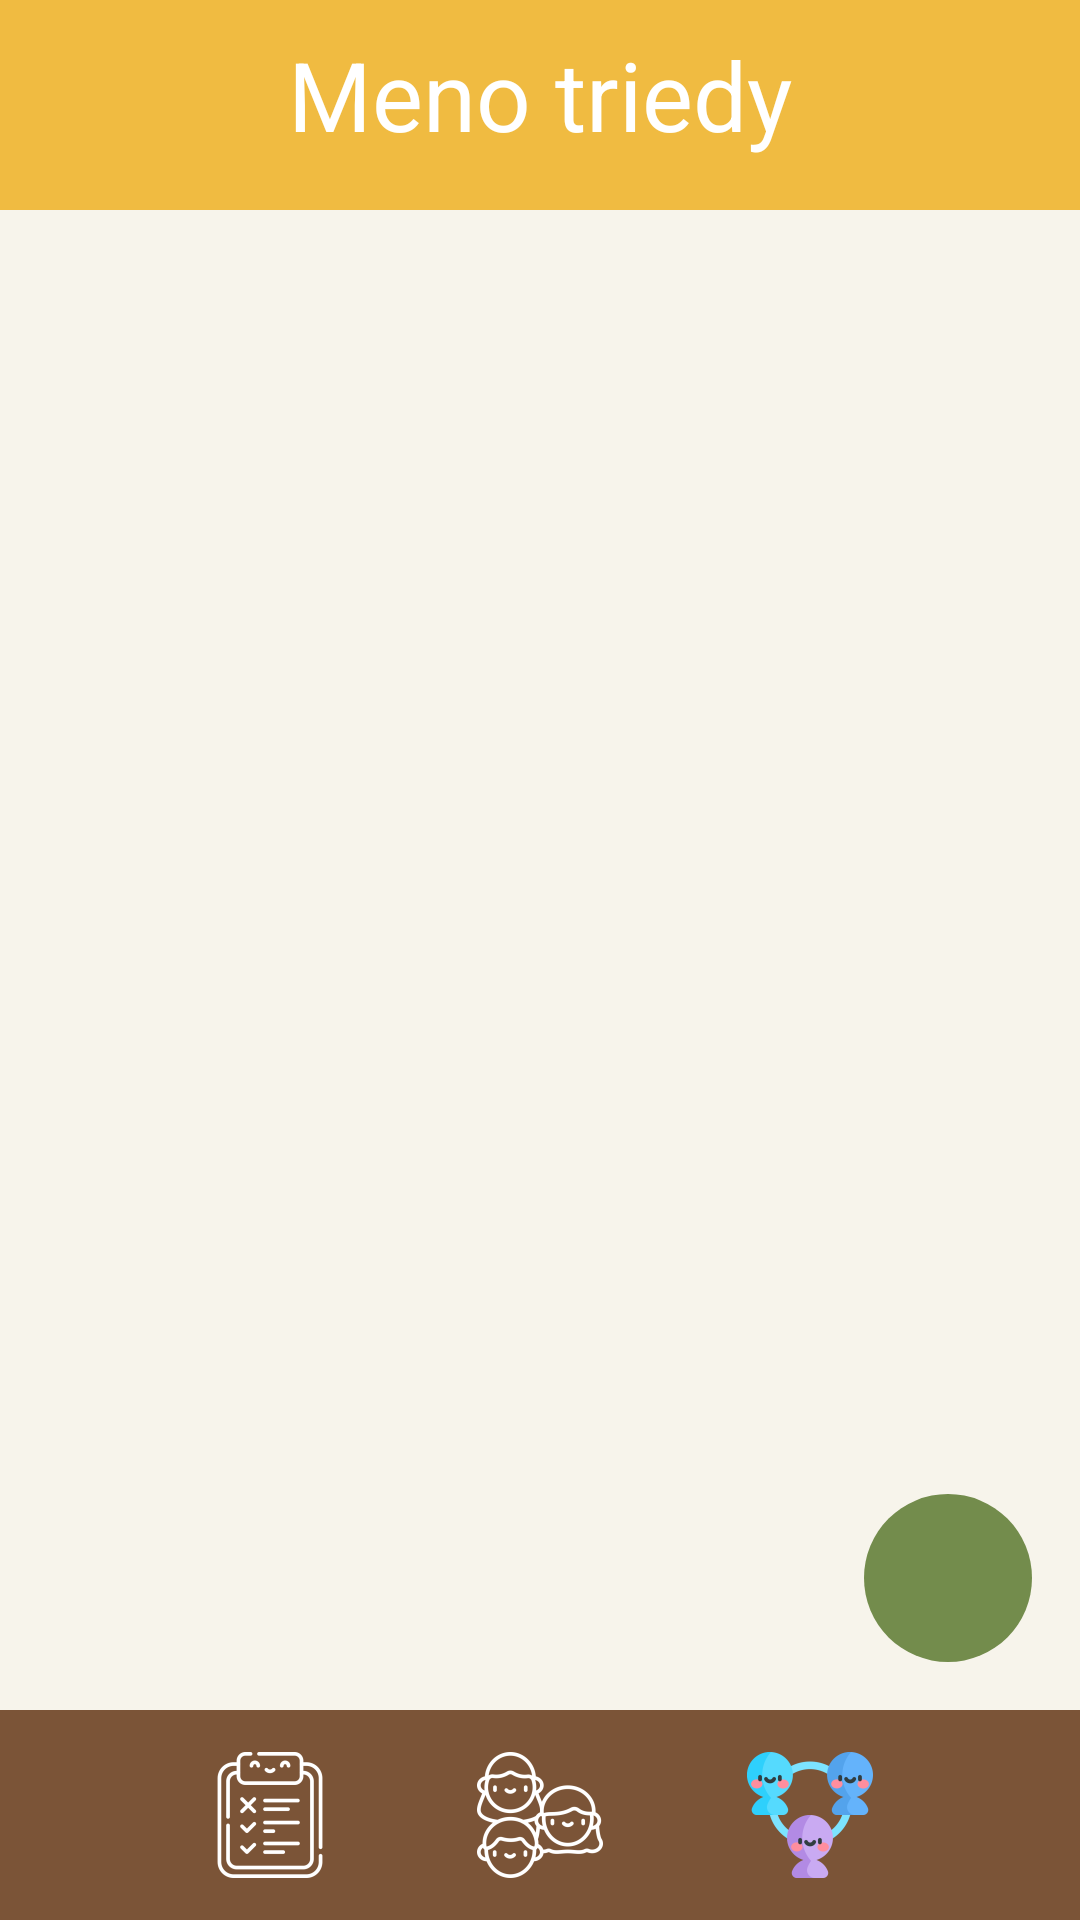

Icons on this 1080*1920 Android screen, each with its box as (x1, y1, x2, y2):
Skupiny: (747, 1752, 873, 1878)
tasks: (217, 1752, 323, 1878)
Žiaci: (477, 1752, 603, 1878)
